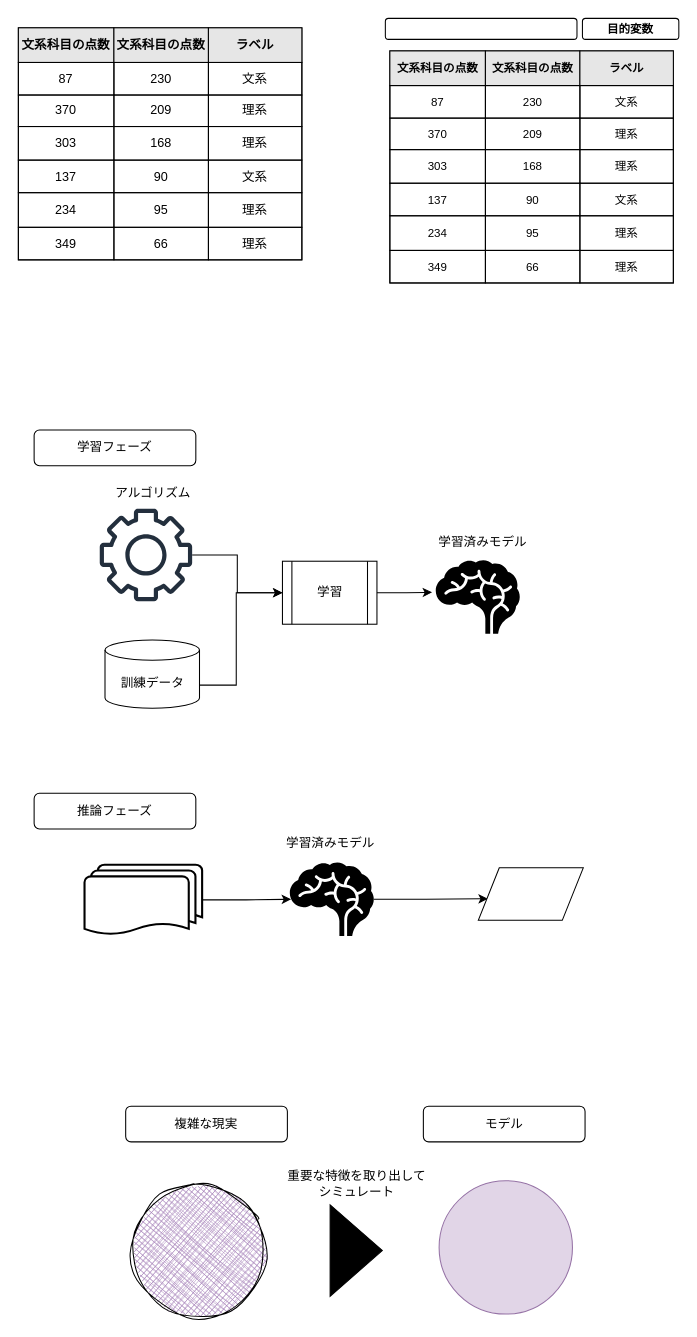
This 697x1337 diagram has some shape labels left out. The shapes that lost their labels are listed below. From the top down, each one's box as (x1, y1, x2, y2) in pixels, then its label:
(384, 17, 577, 39): 特徴量：Feature
(83, 863, 203, 936): 推論用データ
(477, 867, 583, 920): 予測結果
